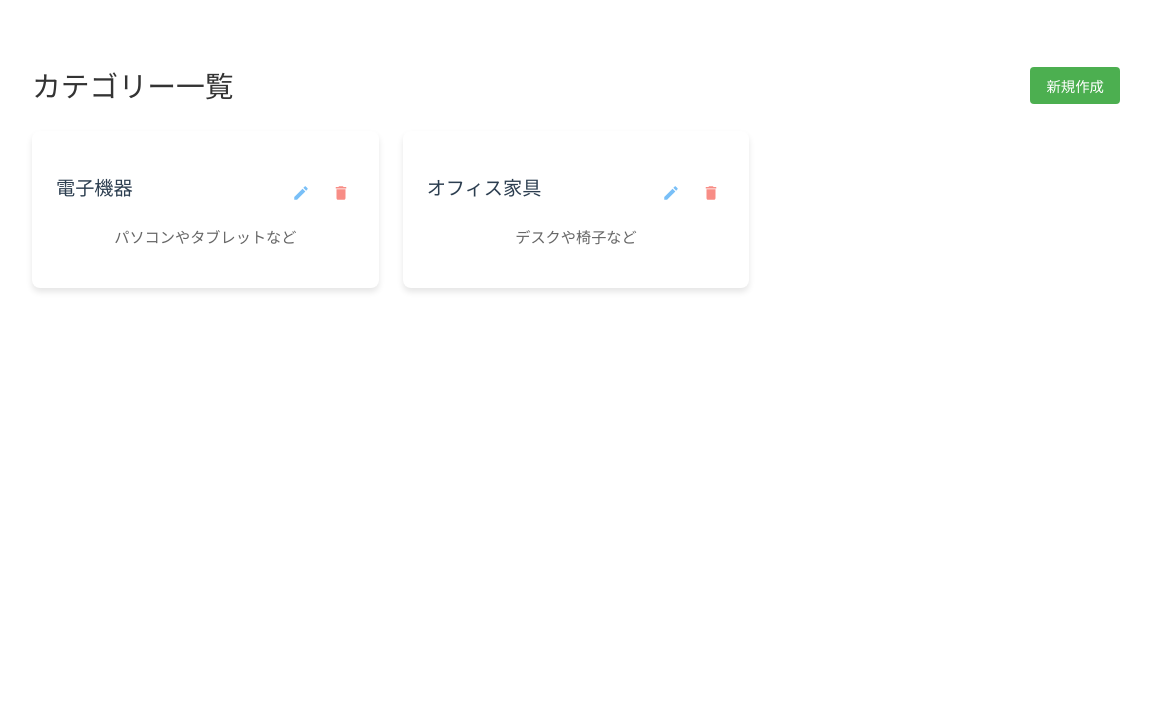
Test case: CategoryList Component CRUD Tests › 既存のカテゴリーを編集できる
Expected: the heading "電子機器" is shown, [56,174,133,203]
# 編集ボタンを見つけて押す（最初のカテゴリーの編集ボタン）
Click the button named "カテゴリーを編集" next to "電子機器".
click(301, 193)  # box [287,179,315,207]
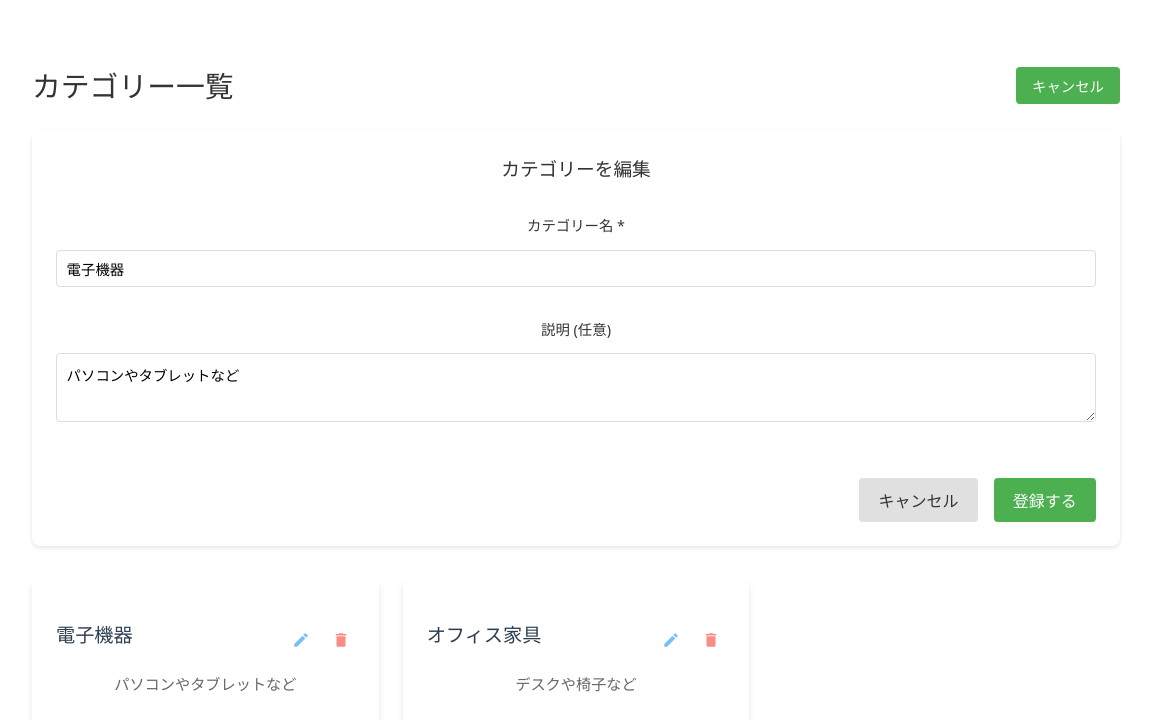
Expected: the heading "カテゴリーを編集" is shown, [501,156,651,181]
Expected: the field labelled "カテゴリー名 *" holds "電子機器"
Expected: the text box labelled "説明 (任意)" holds "パソコンやタブレットなど", [56,353,1096,422]
# フォームの値を変更
Replace the text in the field labelled "カテゴリー名 *" with "編集済み電子機器" at (576, 268), box [56,250,1096,287]
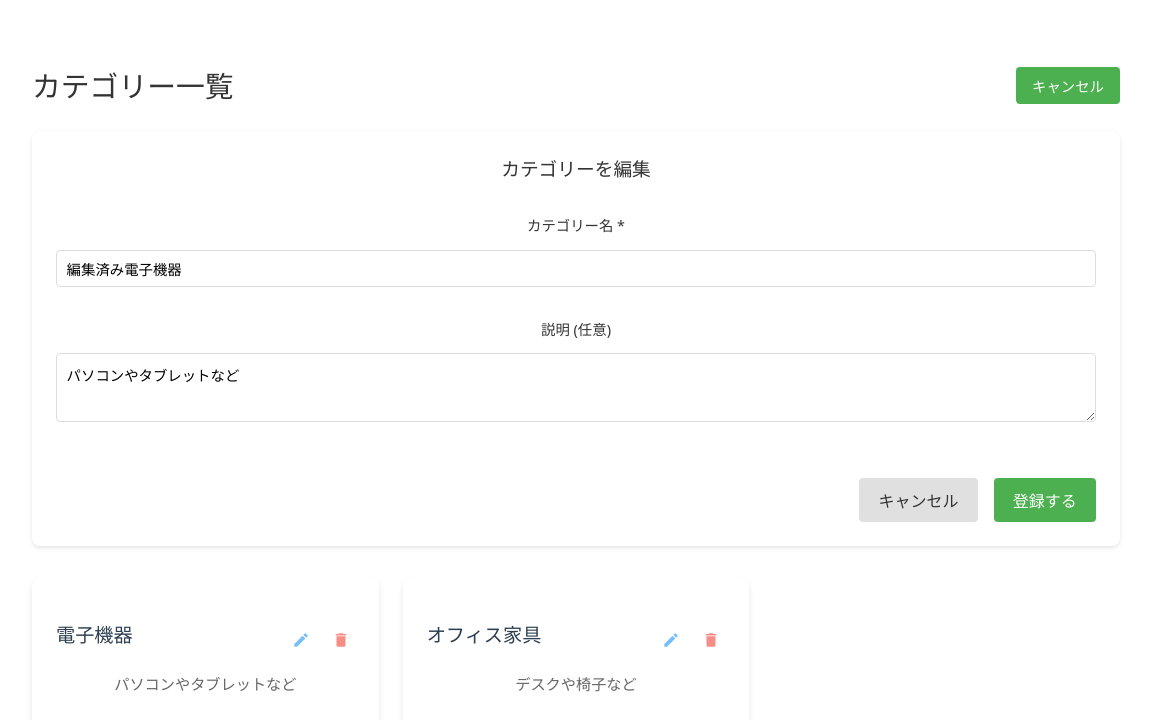
Replace the text in the text box labelled "説明 (任意)" with "更新された説明" at (576, 388), box [56,353,1096,422]
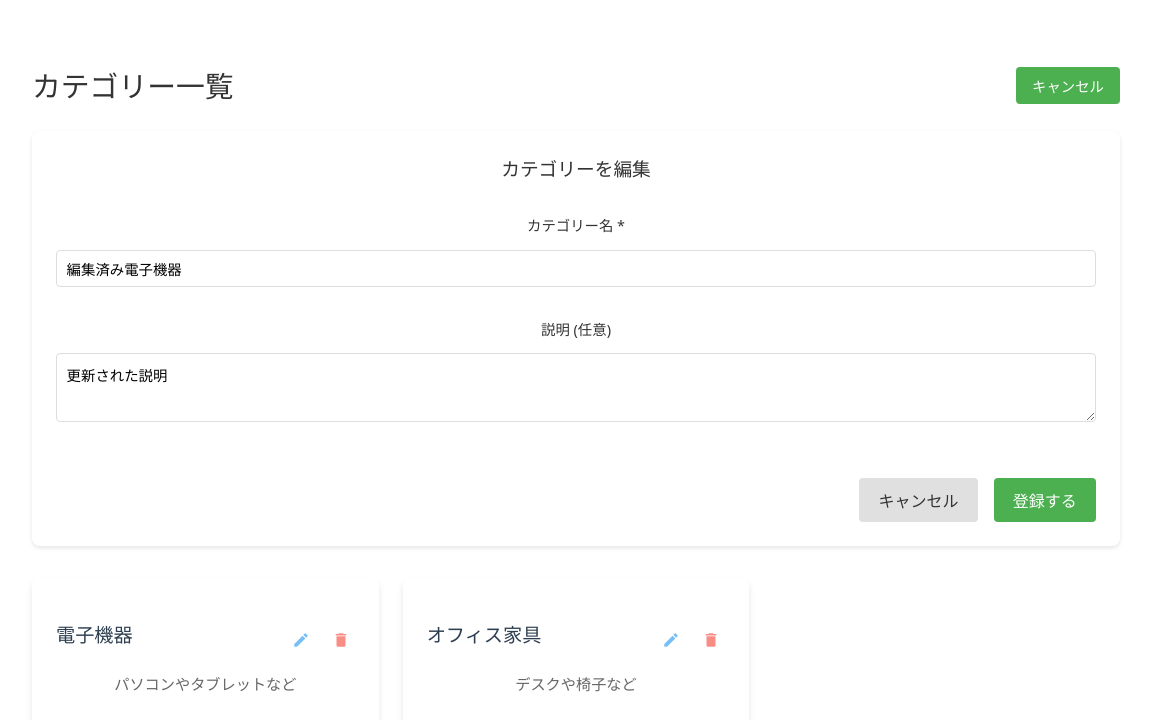
# 更新ボタンをクリック
Submit the form with test id "category-form", box [56,155,1096,522]
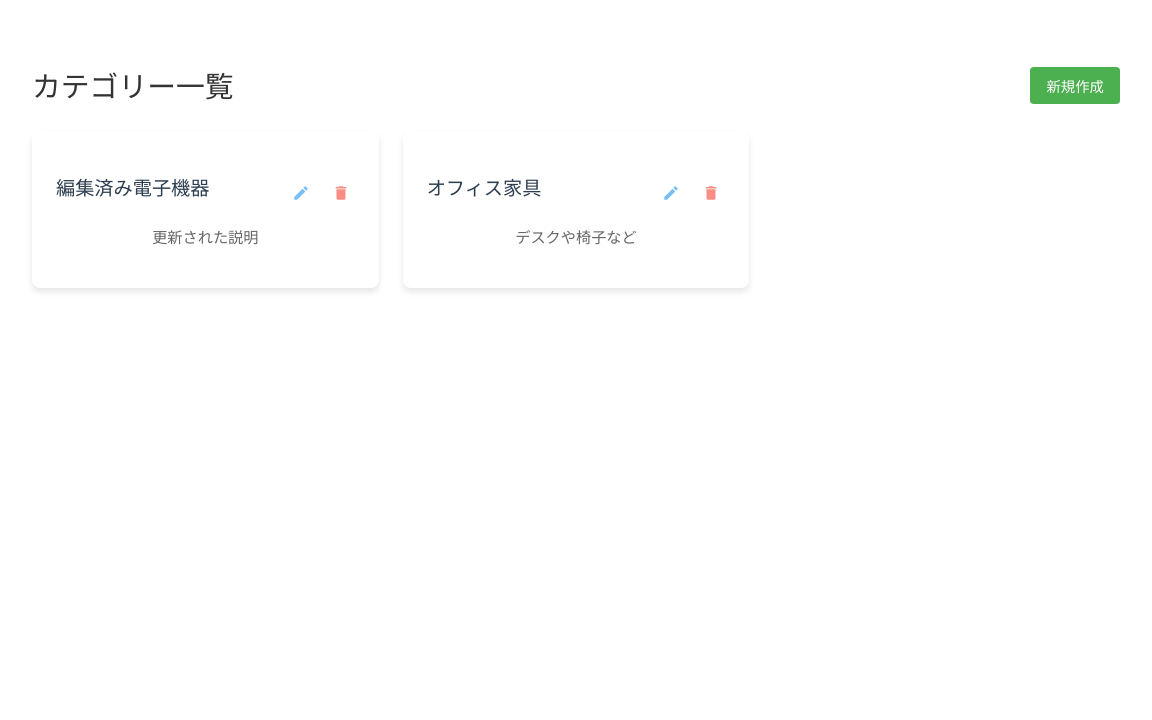
Expected: the heading "編集済み電子機器" is shown, [56,174,210,203]
Expected: the text "更新された説明" is shown, [152,227,258,247]
